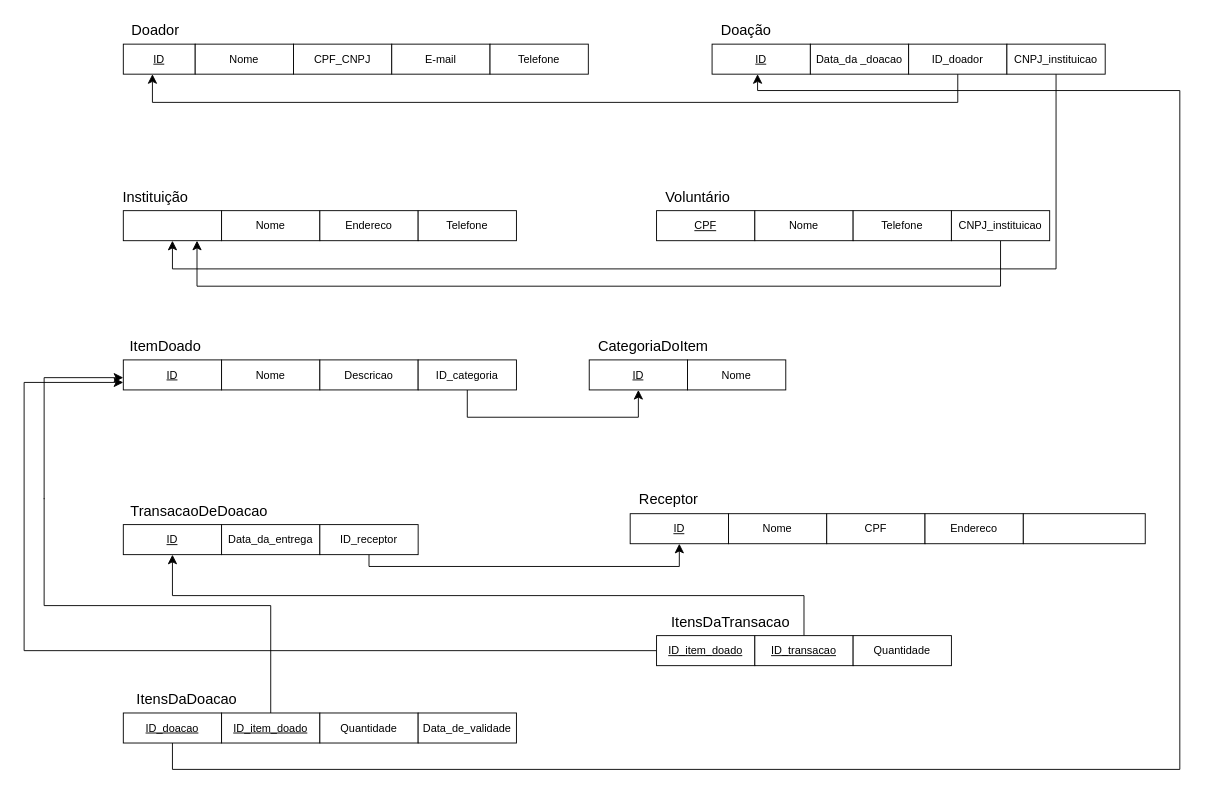
Image size: 1205x786. Some labels were removed from this diagram. The centre of each missing label's shape, as x and y in pixels:
"CNPJ" goes at point 172,225.
"Composicao_familiar" goes at point 1083,528.
